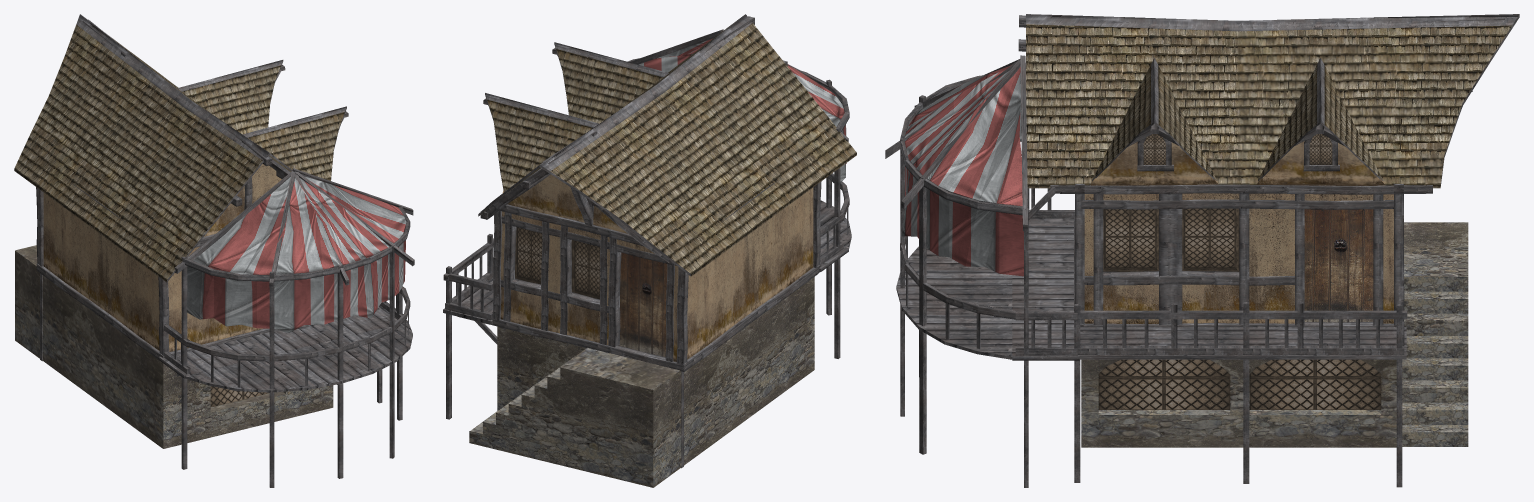
The model's file is v3_house3.dae.
3 views of the same model, side by side, from view 1: azimuth 30°, elevation 25°; view 2: azimuth 150°, elevation 25°; view 3: azimuth 270°, elevation 25° (orthographic). The views are drawn at different scales.
Visible parts, largest first — view 1: roof_01, woodPlanks, cloth_001_c, bricks_old06, con_dirt_01, doorwindow_set; view 2: roof_01, bricks_old06, woodPlanks, con_dirt_01, doorwindow_set, cloth_001_c; view 3: woodPlanks, roof_01, bricks_old06, doorwindow_set, cloth_001_c, con_dirt_01.
Part boxes in pixels (<box>): roof_01: <box>14,24,344,282</box>; woodPlanks: <box>36,14,414,487</box>; cloth_001_c: <box>186,177,406,332</box>; bricks_old06: <box>15,245,333,448</box>; con_dirt_01: <box>43,163,281,351</box>; doorwindow_set: <box>210,386,269,407</box>; roof_01: <box>479,20,856,276</box>; bricks_old06: <box>469,277,814,487</box>; woodPlanks: <box>443,14,851,468</box>; con_dirt_01: <box>500,174,813,361</box>; doorwindow_set: <box>515,227,667,356</box>; cloth_001_c: <box>638,38,846,182</box>; woodPlanks: <box>885,14,1519,487</box>; roof_01: <box>1026,24,1511,188</box>; bricks_old06: <box>1081,222,1468,447</box>; doorwindow_set: <box>1098,134,1381,409</box>; cloth_001_c: <box>901,65,1023,276</box>; con_dirt_01: <box>1084,141,1393,323</box>.
Size of the model in its own units: 7.13 by 8.28 by 12.22.
